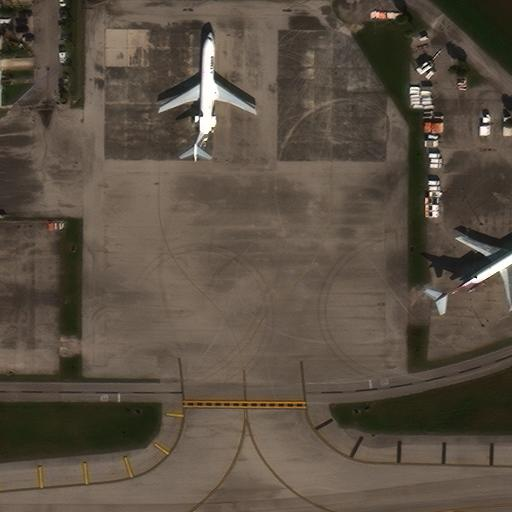Medium Civil Transport: (158, 32, 254, 163), (434, 229, 511, 309)
